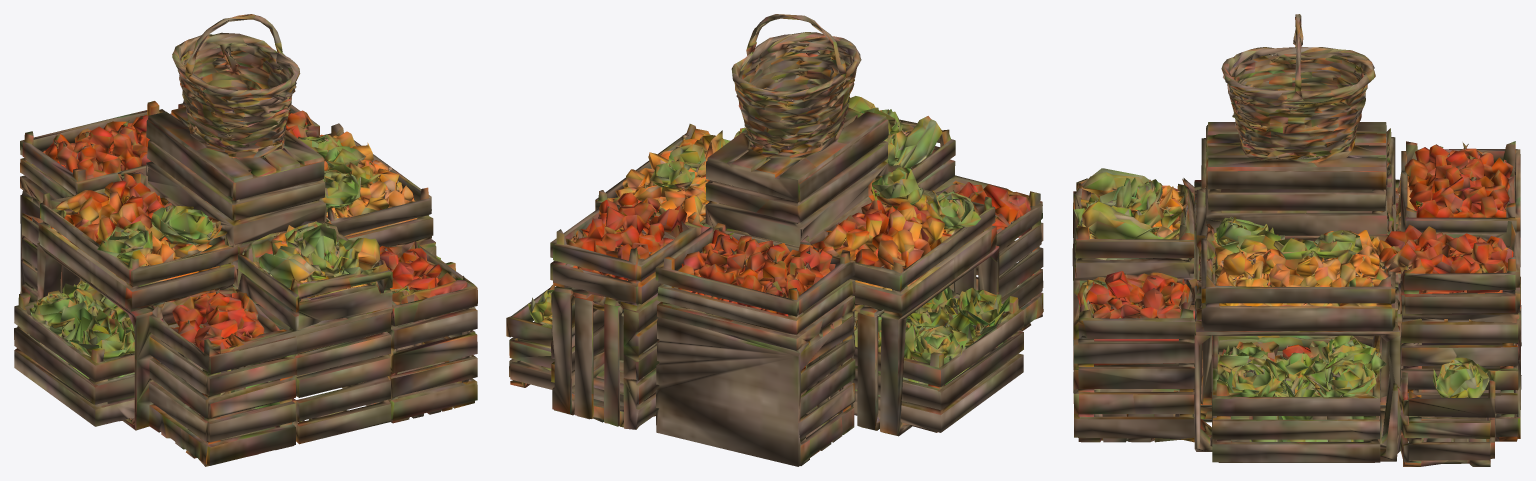
The model's file is produce.glb.
3 views of the same model, side by side, from view 1: azimuth 30°, elevation 25°; view 2: azimuth 150°, elevation 25°; view 3: azimuth 270°, elevation 25° (orthographic). The views are drawn at different scales.
Size of the model in its own units: 1.89 by 1.66 by 1.9.
Materials: 1 (1 with a texture image).
